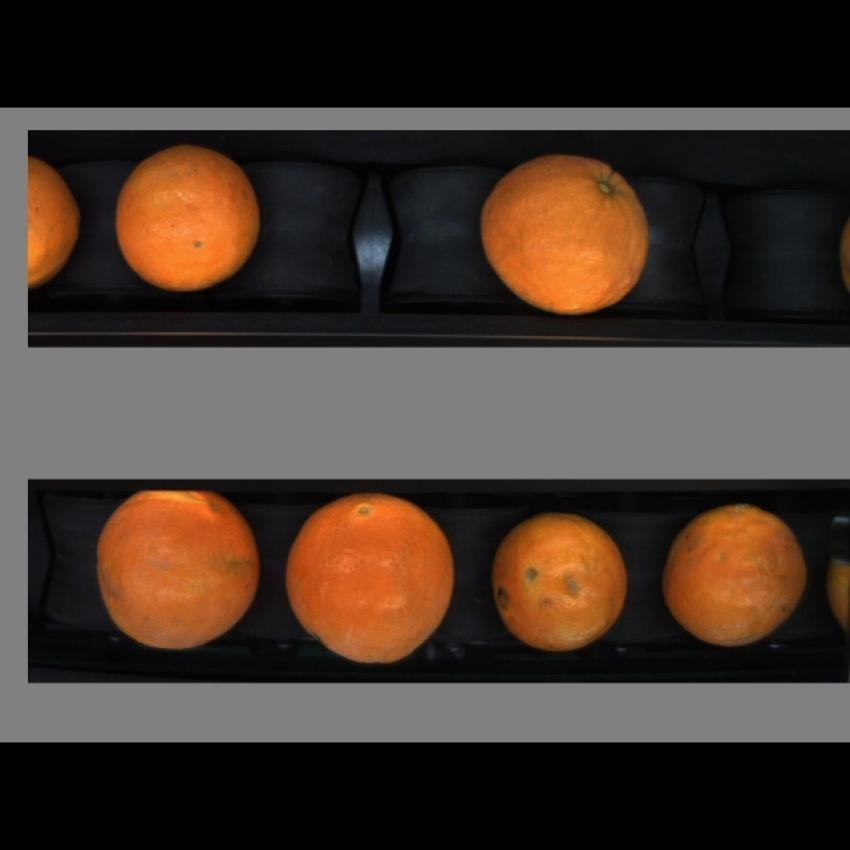Mal estado: (284, 490, 460, 674), (476, 148, 659, 320), (89, 487, 266, 659), (656, 498, 814, 651), (114, 145, 269, 294), (483, 507, 635, 650), (30, 157, 85, 315)
